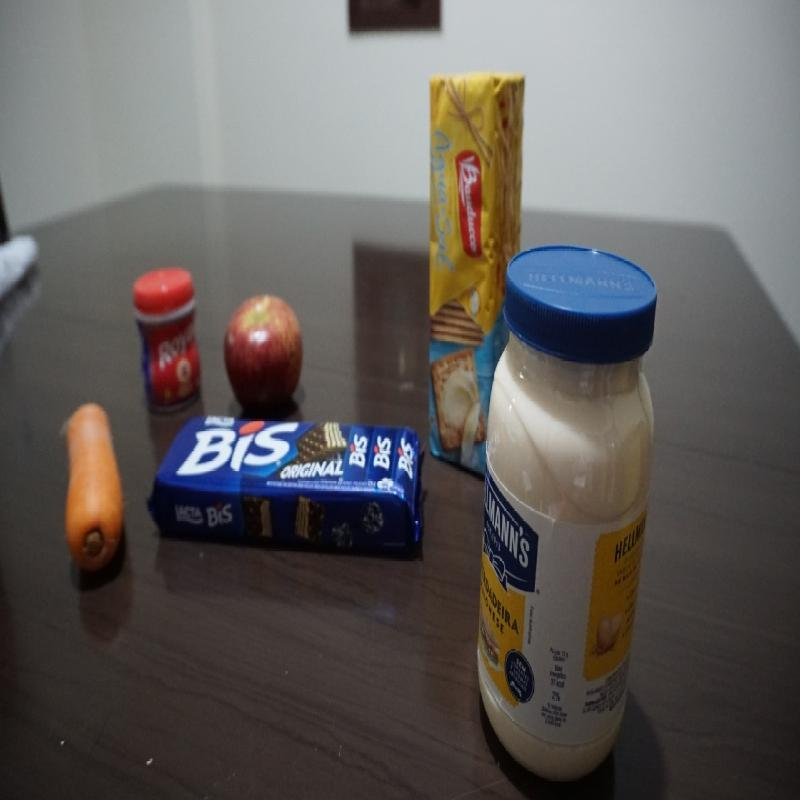Apple: (221, 292, 305, 412)
Carrot: (60, 398, 127, 580)
Cracker: (424, 62, 530, 486)
Mayonnaise: (475, 235, 664, 790)
Yeast: (131, 266, 202, 412)
